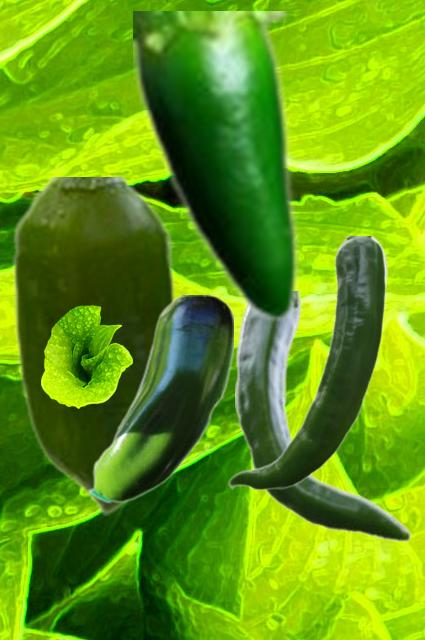green_chili: (11, 177, 176, 514), (133, 11, 299, 322), (235, 291, 411, 540), (227, 236, 387, 490), (86, 295, 232, 503)
